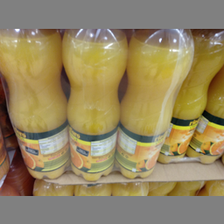juice: (118, 30, 195, 179), (1, 29, 69, 181), (61, 29, 128, 182)
